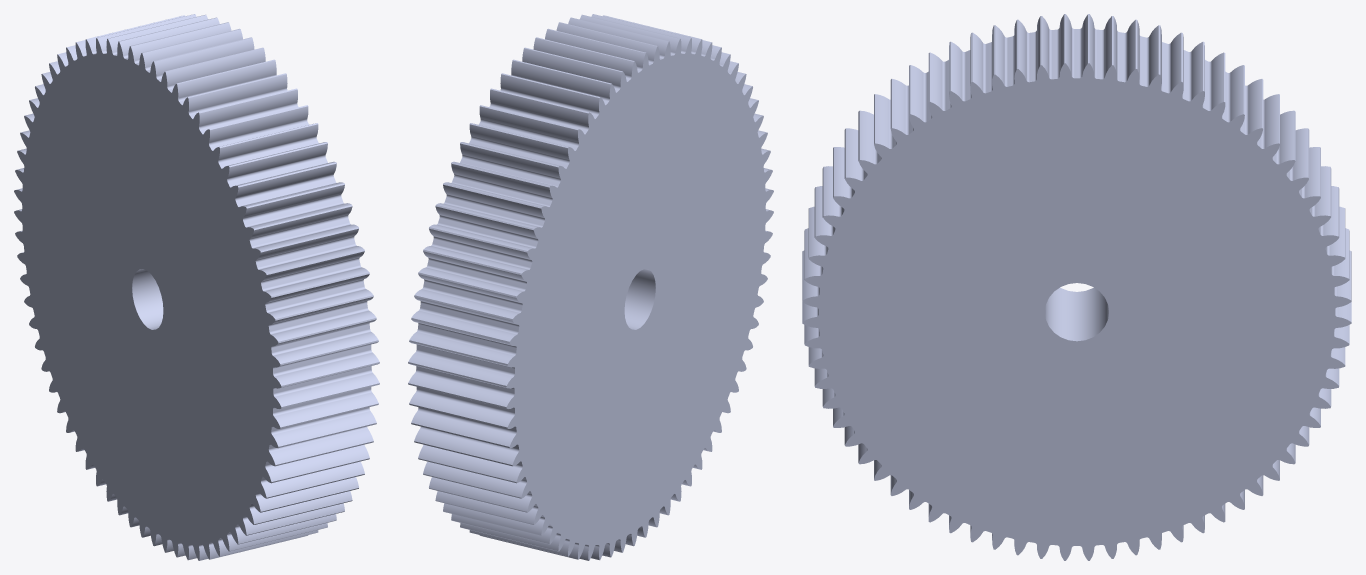
The model's file is spur_gear_2.glb.
3 views of the same model, side by side, from view 1: azimuth 30°, elevation 25°; view 2: azimuth 150°, elevation 25°; view 3: azimuth 270°, elevation 25° (orthographic). The views are drawn at different scales.
Parts seen in each view (by area): view 1: spur_gear_2; view 2: spur_gear_2; view 3: spur_gear_2.
Part boxes in pixels (x1,y1,x2,y2): spur_gear_2: [14, 14, 379, 560]; spur_gear_2: [408, 14, 773, 560]; spur_gear_2: [802, 14, 1351, 560].
Bounding box in the file's own units: 0.055 × 0.2588 × 0.2588.
